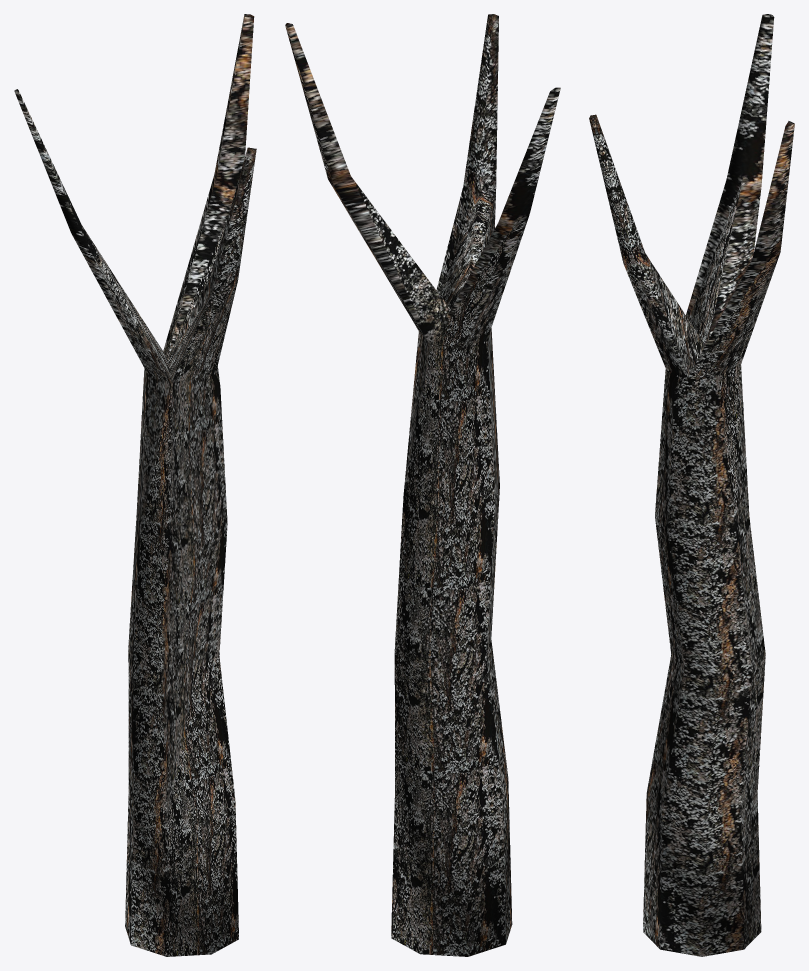
File: tronco.fbx
3 views of the same model, side by side, from view 1: azimuth 30°, elevation 25°; view 2: azimuth 150°, elevation 25°; view 3: azimuth 270°, elevation 25° (orthographic). The views are drawn at different scales.
Visible parts, largest first — view 1: Cylinder001; view 2: Cylinder001; view 3: Cylinder001.
Part boxes in pixels (x1,y1,x2,y2): Cylinder001: [14, 14, 256, 956]; Cylinder001: [285, 14, 560, 956]; Cylinder001: [589, 14, 794, 956].
Bounding box in the file's own units: 0.7797 × 2.58 × 0.558.
Materials: 1 (1 with a texture image).
